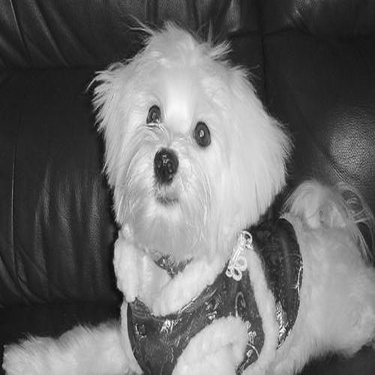dog: (4, 13, 372, 373)
